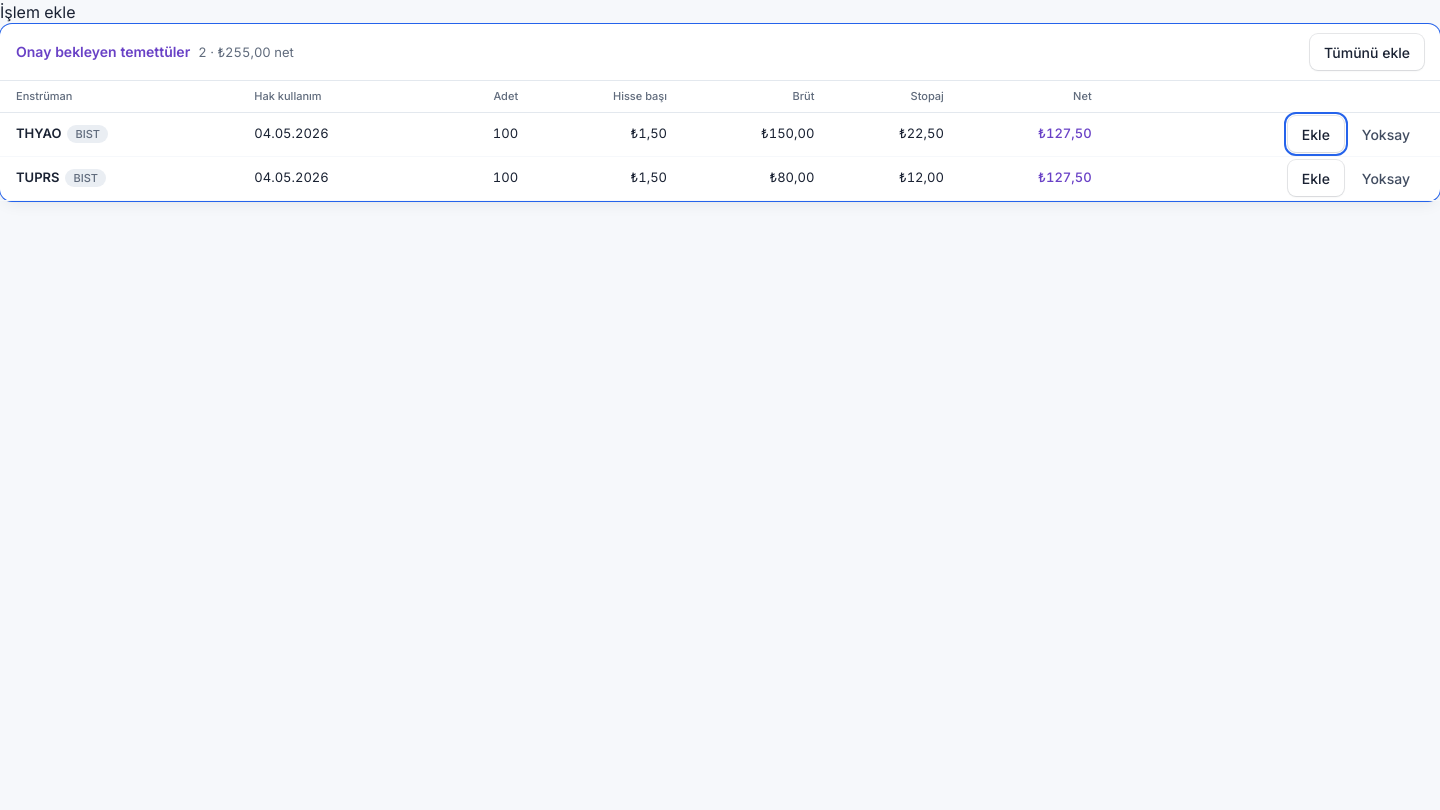
ExpectedDividends › moves focus to the next suggestion after one is added
Expected: the heading "Onay bekleyen temettüler" is shown, x1=16 y1=41 x2=190 y2=62
Step 1. Click the button with aria-label "THYAO 04.05.2026 temettüsünü ekle" → (1316, 134), box x1=1288 y1=116 x2=1344 y2=152
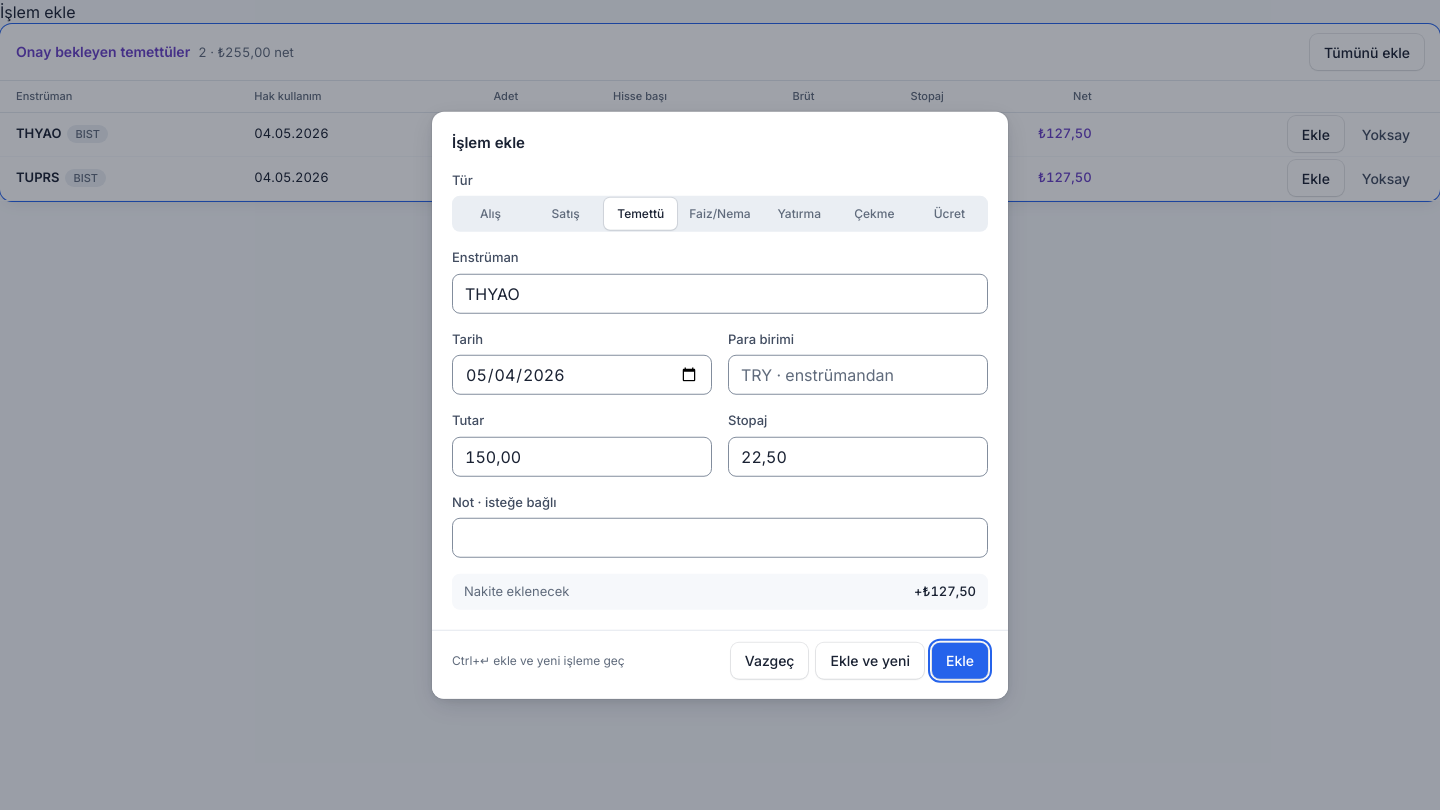
Step 2. Click the button "Ekle" → (960, 660), box x1=932 y1=642 x2=988 y2=678
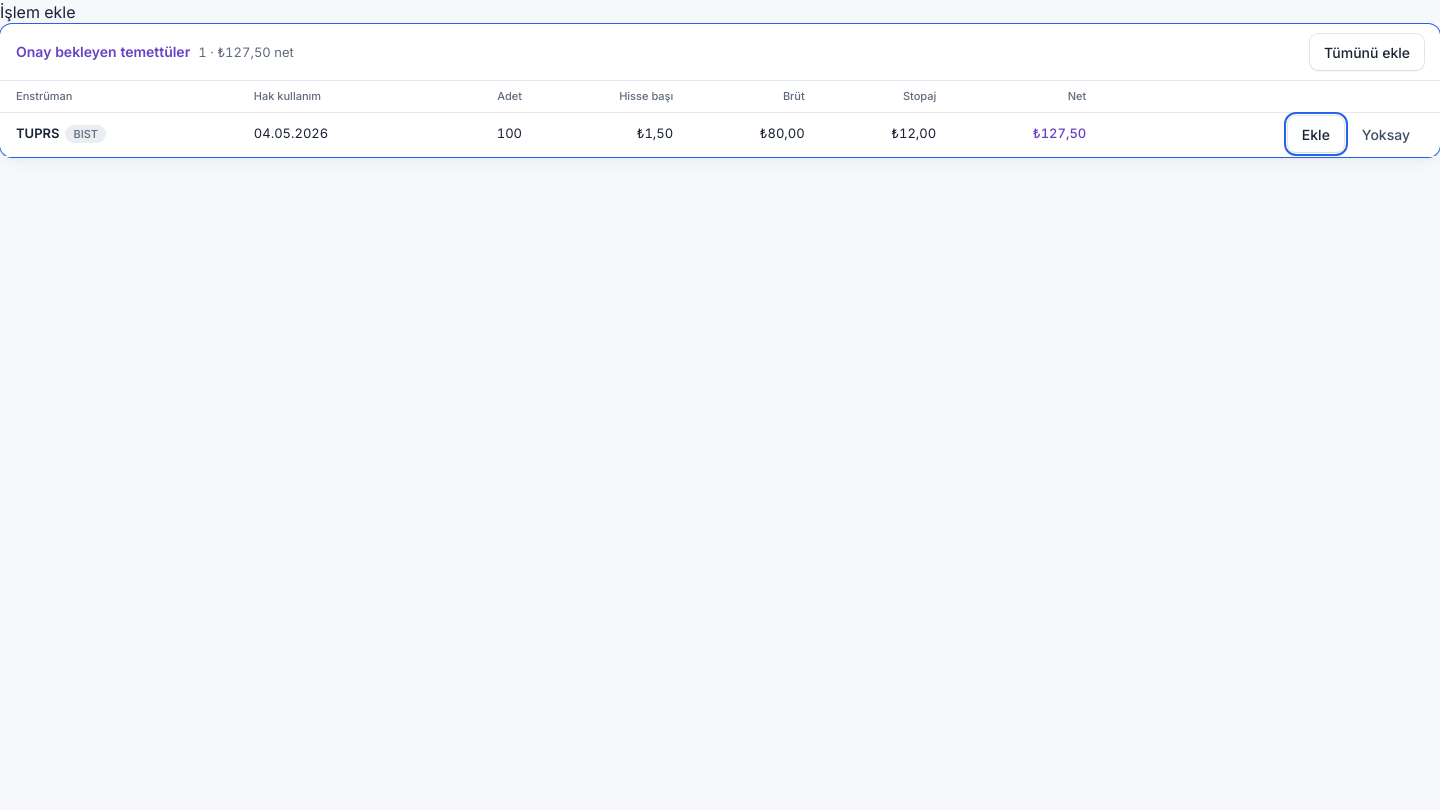
Now the text "THYAO" is gone
